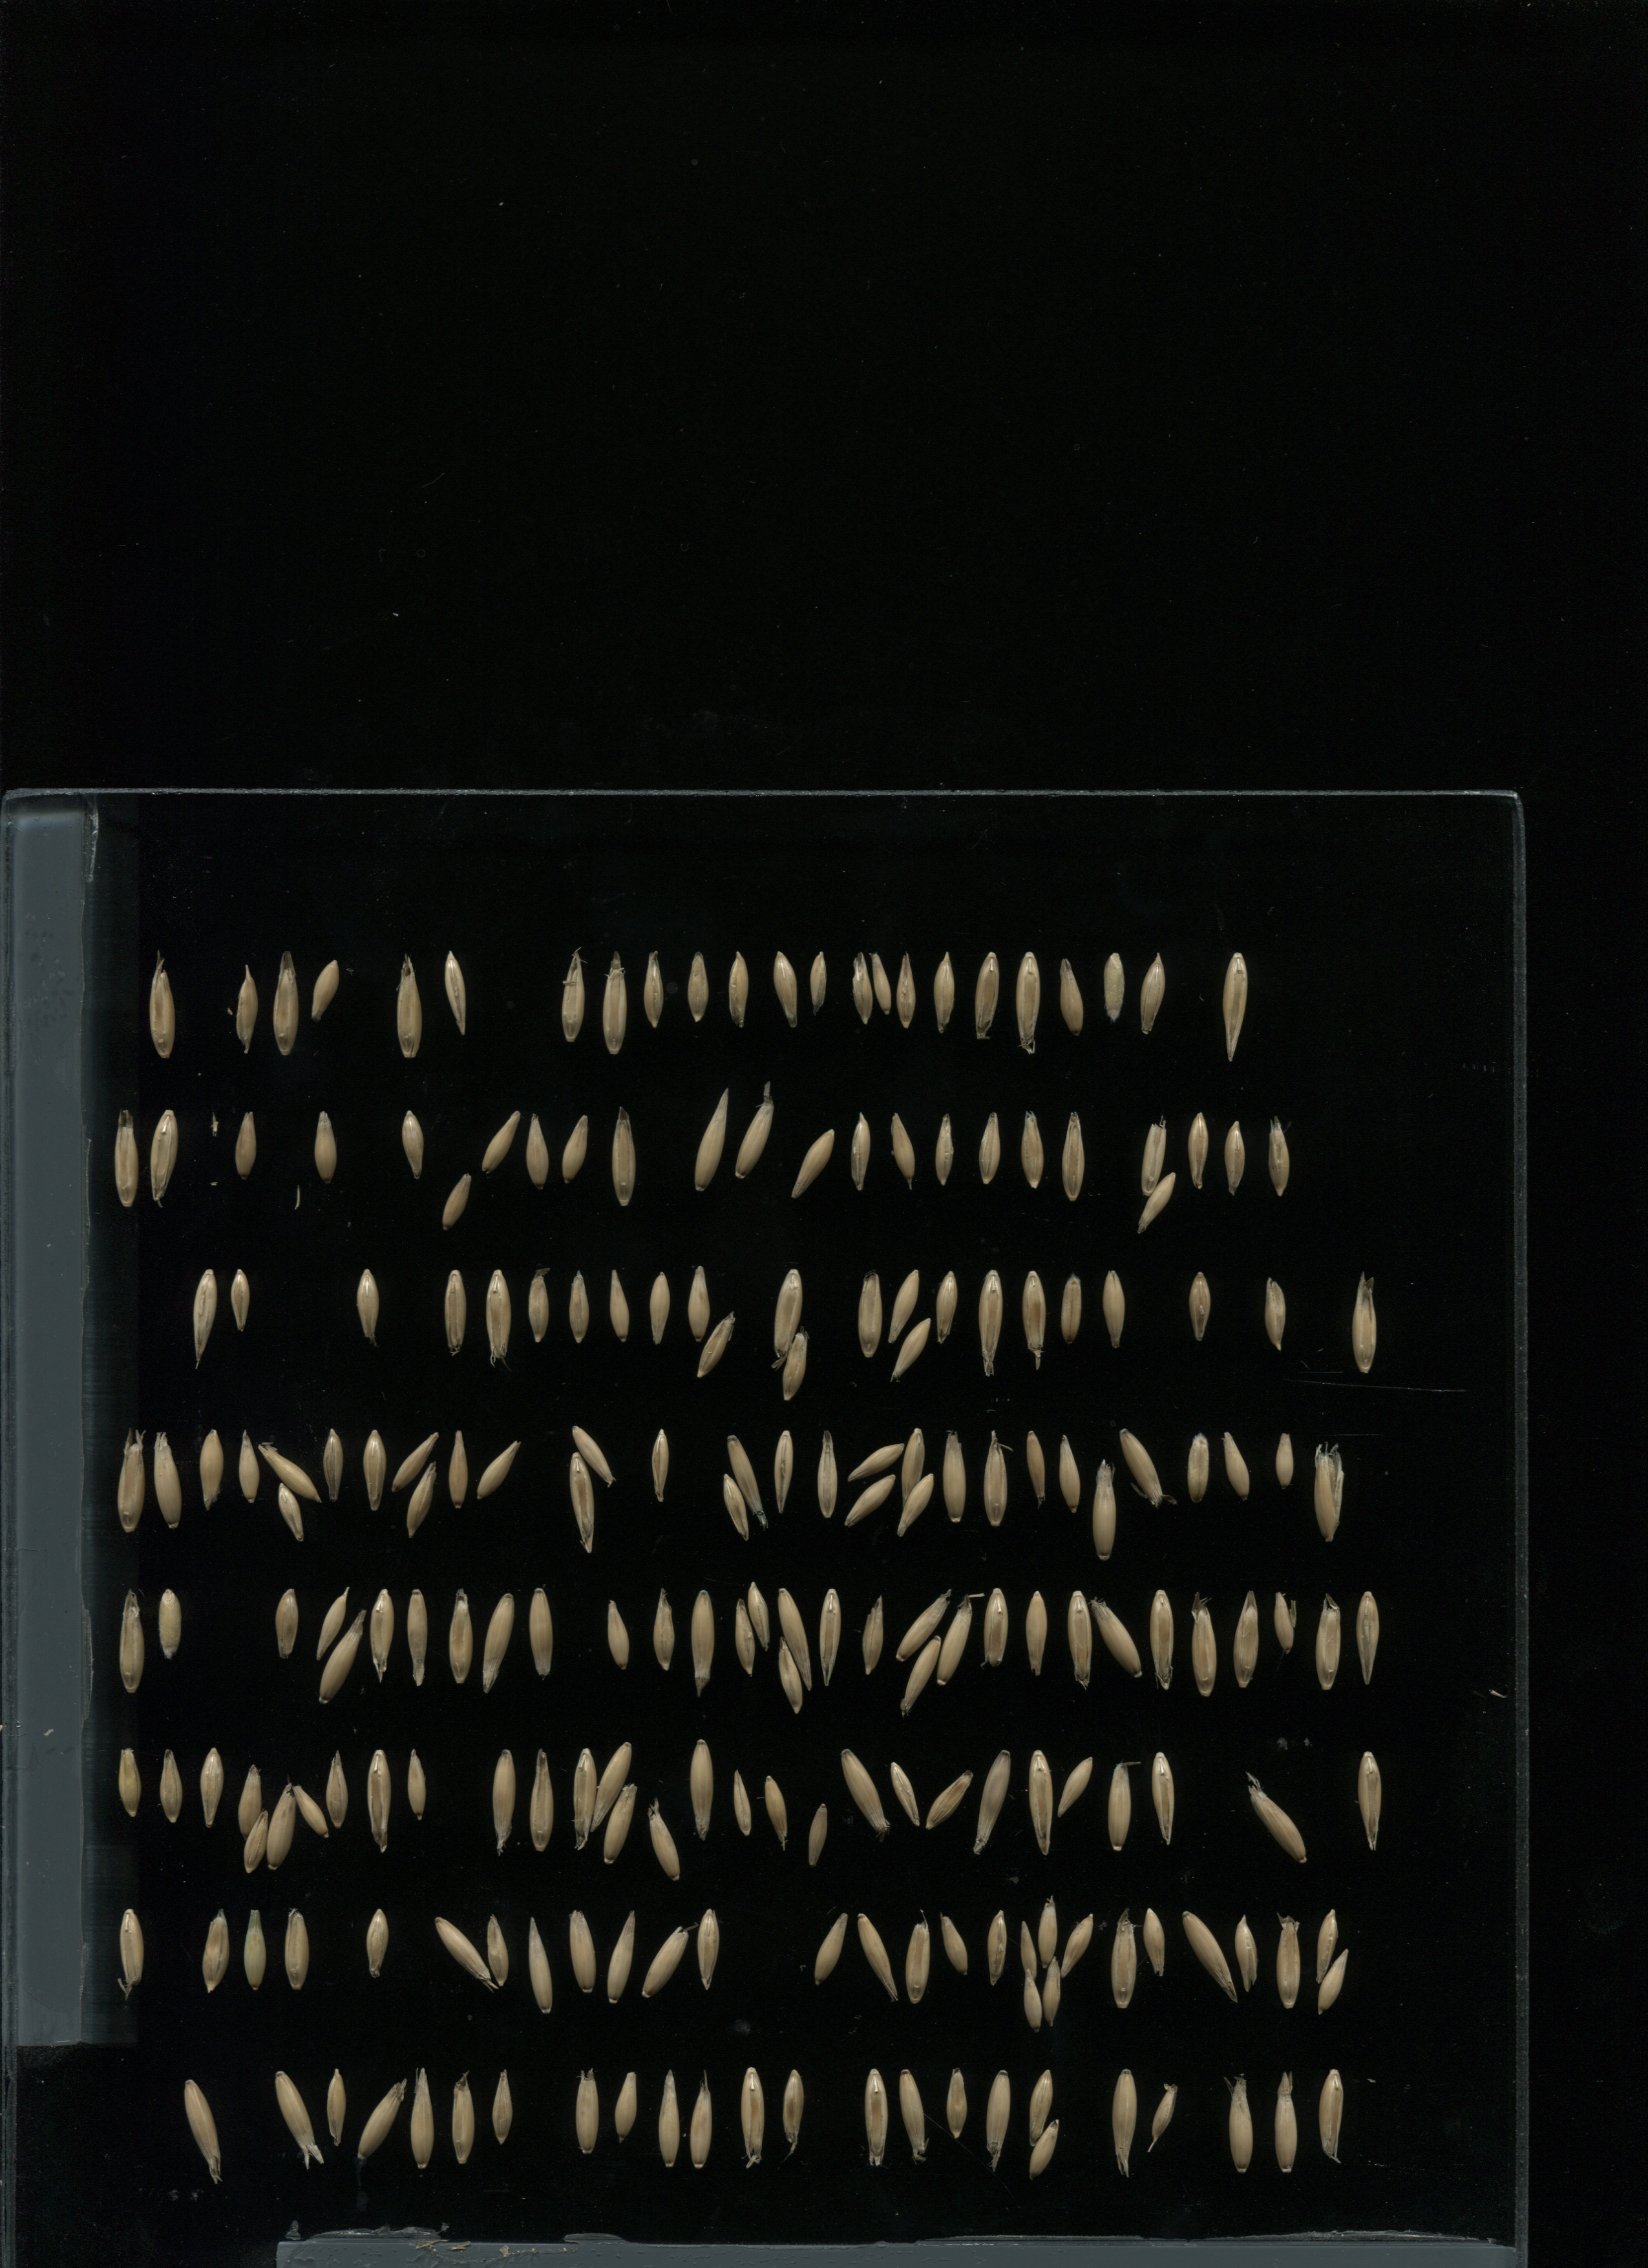WholeGrain: (1181, 1911, 1236, 2004), (271, 2069, 322, 2168), (1247, 1782, 1308, 1858), (356, 2074, 408, 2162), (317, 1609, 364, 1705), (1092, 1595, 1148, 1675), (435, 1918, 495, 1992), (842, 1749, 891, 1837), (257, 1442, 322, 1506), (974, 1749, 1012, 1854), (896, 1590, 953, 1662), (590, 1740, 632, 1835), (776, 1587, 815, 1689), (185, 2081, 224, 2183), (727, 1435, 769, 1527), (857, 1912, 900, 2000), (643, 1925, 692, 1999), (481, 1592, 516, 1692), (1118, 1430, 1167, 1500), (736, 1083, 773, 1176), (1312, 1446, 1347, 1541), (1220, 951, 1250, 1062), (938, 1597, 975, 1687), (114, 1433, 146, 1535), (901, 1636, 942, 1715), (153, 1430, 185, 1530), (391, 1430, 442, 1491), (1111, 2067, 1139, 2178), (606, 1909, 637, 2006), (1190, 1590, 1218, 1697), (924, 1770, 972, 1833), (1109, 1911, 1139, 2011), (697, 1090, 727, 1189), (602, 1784, 637, 1867), (567, 1453, 595, 1555), (812, 1912, 850, 1986), (977, 1270, 1004, 1377), (146, 958, 173, 1064), (602, 953, 629, 1058), (1092, 1458, 1118, 1564), (1352, 1271, 1379, 1375), (1232, 1588, 1259, 1692), (195, 1743, 227, 1830), (572, 1425, 616, 1486), (845, 1474, 896, 1527), (773, 1270, 803, 1359), (1019, 1592, 1051, 1676), (794, 1127, 833, 1196), (407, 1460, 440, 1539), (1067, 1585, 1092, 1692), (116, 1909, 146, 1997), (268, 1780, 296, 1874), (396, 954, 421, 1060), (120, 1595, 146, 1694), (370, 1587, 396, 1685), (1150, 1588, 1176, 1687), (898, 2069, 926, 2161), (695, 1314, 736, 1377), (572, 1747, 597, 1851), (560, 947, 586, 1044), (151, 1111, 180, 1201), (192, 1268, 217, 1370), (863, 2069, 887, 2171), (1150, 1750, 1176, 1845), (648, 1803, 680, 1882), (528, 1918, 555, 2013), (1319, 2069, 1345, 2164), (201, 1911, 231, 1993), (817, 1587, 842, 1687), (530, 1750, 555, 1851), (692, 1588, 715, 1696), (1028, 1749, 1051, 1856), (984, 1430, 1009, 1528), (449, 1587, 474, 1685), (1317, 1594, 1342, 1692), (657, 2069, 681, 2168), (273, 949, 296, 1055), (1106, 1761, 1132, 1852), (887, 1270, 921, 1342), (482, 1111, 519, 1176), (845, 1444, 907, 1483), (986, 2069, 1011, 2166), (479, 1440, 521, 1497), (570, 1909, 599, 1993), (690, 1738, 713, 1842), (493, 1749, 516, 1852), (366, 1749, 389, 1852), (410, 2067, 433, 2171), (1021, 1271, 1046, 1366), (1356, 1590, 1380, 1685), (1139, 951, 1167, 1034), (1276, 1918, 1301, 2011), (114, 1108, 137, 1208), (1359, 1752, 1382, 1852), (1060, 1912, 1095, 1977), (893, 1319, 930, 1381), (898, 1474, 935, 1535), (197, 1425, 224, 1511), (1234, 1909, 1261, 1995), (613, 1109, 636, 1208), (407, 1587, 430, 1685), (739, 2066, 762, 2164), (690, 2069, 713, 2168), (1137, 1173, 1176, 1231), (1315, 1948, 1349, 2014), (1229, 2076, 1252, 2173), (775, 1639, 805, 1713), (1276, 2073, 1298, 2176), (1148, 2083, 1180, 2152), (1058, 1756, 1093, 1817), (1018, 951, 1039, 1053), (292, 1782, 329, 1840), (442, 1270, 467, 1356), (857, 1273, 882, 1359), (530, 1588, 555, 1675), (576, 2069, 600, 2155), (773, 951, 799, 1030), (363, 1428, 387, 1513), (243, 1909, 268, 1993), (975, 951, 998, 1041), (1062, 1113, 1085, 1203), (488, 1270, 511, 1359), (722, 1474, 752, 1543), (319, 1588, 349, 1657), (236, 967, 259, 1055), (447, 1426, 470, 1514), (452, 2071, 474, 2166), (613, 2071, 639, 2146), (901, 1426, 926, 1507), (653, 1590, 678, 1671), (1028, 2069, 1053, 2150), (606, 1601, 634, 1671), (944, 1430, 965, 1523), (1058, 956, 1083, 1035), (646, 1271, 673, 1345), (889, 1761, 919, 1826), (938, 1912, 968, 1977), (817, 1430, 838, 1521), (525, 1116, 551, 1189), (285, 1909, 308, 1992), (1222, 1120, 1247, 1196), (1021, 1113, 1046, 1189), (687, 1266, 711, 1342), (984, 1590, 1009, 1666), (1315, 1909, 1340, 1984), (907, 1916, 928, 2004), (1141, 1907, 1167, 1977), (1030, 2117, 1060, 2178), (891, 1113, 916, 1187), (158, 1588, 185, 1657), (734, 1597, 757, 1676), (445, 949, 467, 1034), (784, 1335, 812, 1398), (1222, 1432, 1250, 1495), (773, 1430, 794, 1514), (278, 1483, 306, 1546), (685, 951, 710, 1023), (607, 1270, 632, 1342), (1264, 1277, 1289, 1349), (238, 1764, 262, 1837), (116, 1749, 141, 1821), (1102, 1270, 1125, 1347), (243, 1808, 269, 1875), (1268, 1116, 1289, 1199), (863, 1595, 884, 1678), (442, 1173, 472, 1231), (977, 1113, 1002, 1183), (364, 1909, 389, 1979), (486, 1916, 511, 1986), (238, 1430, 261, 1506), (158, 1749, 181, 1824), (1058, 1433, 1079, 1514), (326, 1749, 347, 1830), (357, 1268, 380, 1342), (526, 1270, 549, 1344), (1273, 1587, 1298, 1655), (312, 958, 338, 1021), (850, 1111, 872, 1190), (401, 1109, 424, 1182), (313, 1111, 336, 1183), (567, 1271, 590, 1344), (937, 1271, 960, 1344), (1025, 1430, 1048, 1502), (766, 1775, 789, 1847), (563, 1116, 588, 1183), (322, 1426, 343, 1504), (986, 1909, 1007, 1986), (1188, 1271, 1211, 1342), (935, 949, 954, 1032), (697, 1909, 717, 1992), (731, 1770, 754, 1838), (729, 947, 748, 1028), (784, 2069, 803, 2150), (644, 953, 666, 1027), (933, 1113, 954, 1187), (407, 1749, 428, 1823), (1035, 1895, 1056, 1969), (234, 1113, 257, 1180), (806, 1801, 829, 1868), (945, 2067, 967, 2139), (1188, 1113, 1208, 1190), (748, 1583, 771, 1648), (276, 1588, 298, 1659), (327, 2066, 345, 2148), (1062, 1273, 1081, 1347), (650, 1428, 669, 1502), (493, 2069, 511, 2146), (1187, 1435, 1208, 1499), (896, 953, 914, 1028), (1106, 953, 1125, 1021), (1143, 1125, 1162, 1194), (231, 1266, 250, 1335), (1021, 1970, 1042, 2032), (1042, 1956, 1060, 2030), (852, 956, 870, 1027), (873, 956, 893, 1016), (1018, 1921, 1037, 1981), (810, 951, 828, 1011), (1275, 1432, 1292, 1486)
